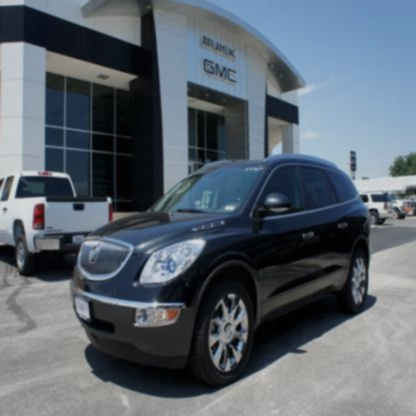Vehicle: (68, 156, 374, 389)
